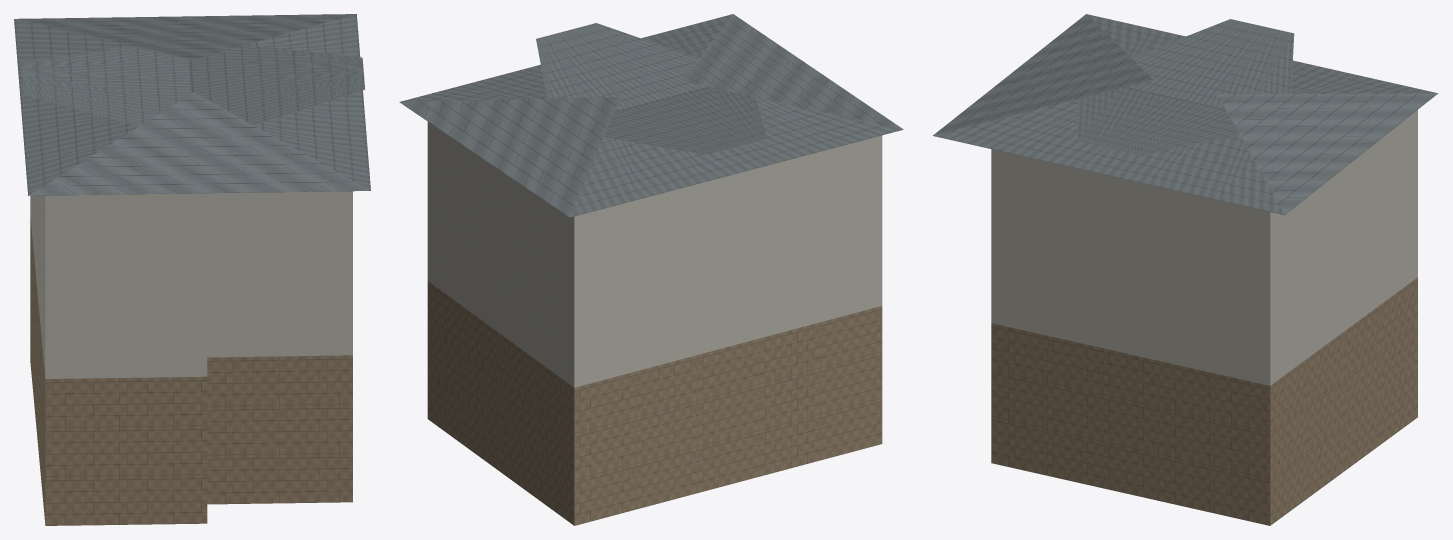
File: bld_c11_29_397.gltf
The picture shows the model from 3 angles, left to right: view 1: azimuth 30°, elevation 25°; view 2: azimuth 150°, elevation 25°; view 3: azimuth 270°, elevation 25°; orthographic projection. The views are drawn at different scales.
Parts seen in each view (by area): view 1: bld_c11_29_397; view 2: bld_c11_29_397; view 3: bld_c11_29_397.
Part boxes in pixels (x1,y1,x2,y2): bld_c11_29_397: (14,14,370,525); bld_c11_29_397: (399,14,903,525); bld_c11_29_397: (933,14,1437,525).
Size of the model in its own units: 15.72 by 12.7 by 16.7.
Materials: 3 (3 with a texture image).
